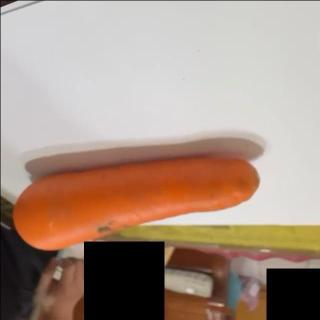carrot: (11, 154, 261, 252)
